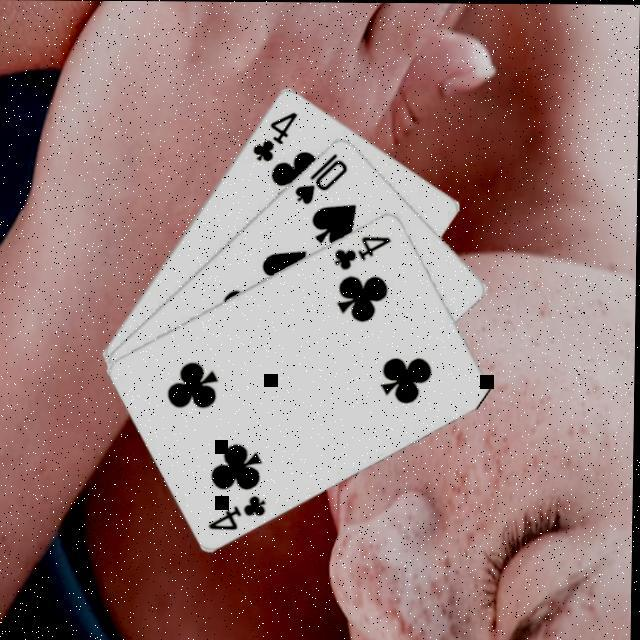10S: (292, 150, 353, 209)
4C: (250, 109, 303, 166), (333, 232, 397, 274), (208, 492, 272, 534)
